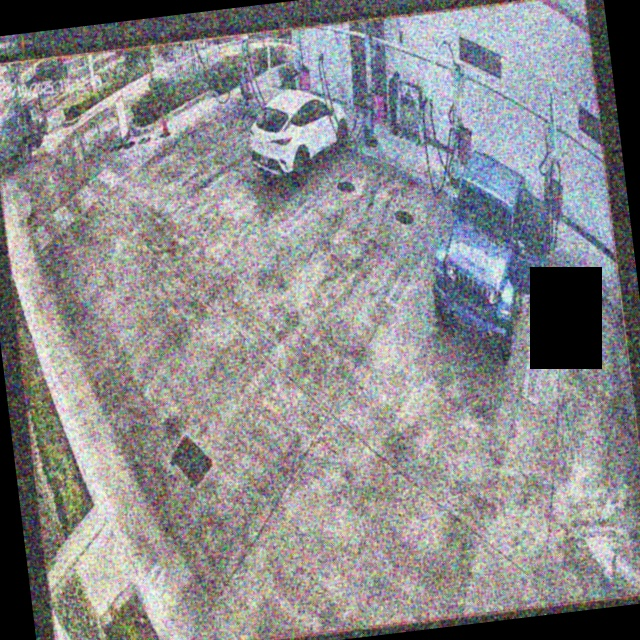Car: (417, 143, 563, 361), (247, 77, 353, 189)
